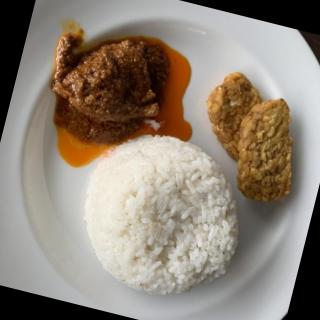Nasi: (67, 122, 261, 312)
